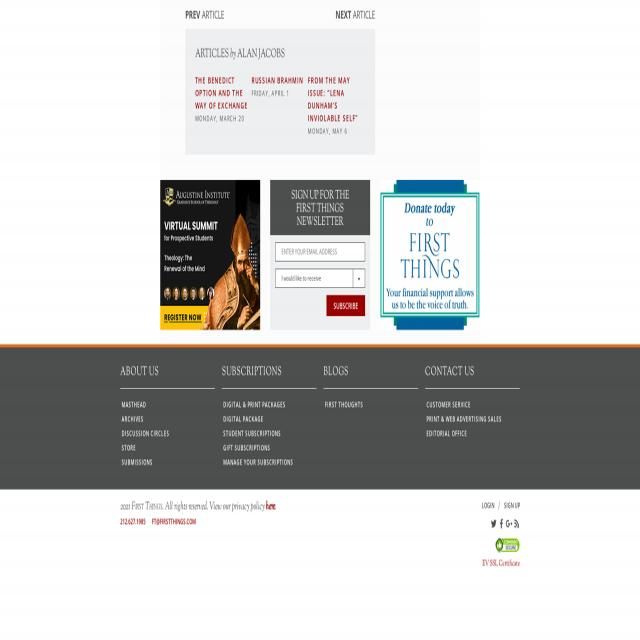button: (160, 180, 261, 330), (381, 193, 479, 317), (326, 295, 365, 317), (496, 538, 519, 553), (504, 518, 512, 530), (490, 518, 498, 530), (498, 517, 504, 531), (514, 517, 520, 531)
field: (275, 242, 365, 261), (276, 269, 365, 288)
